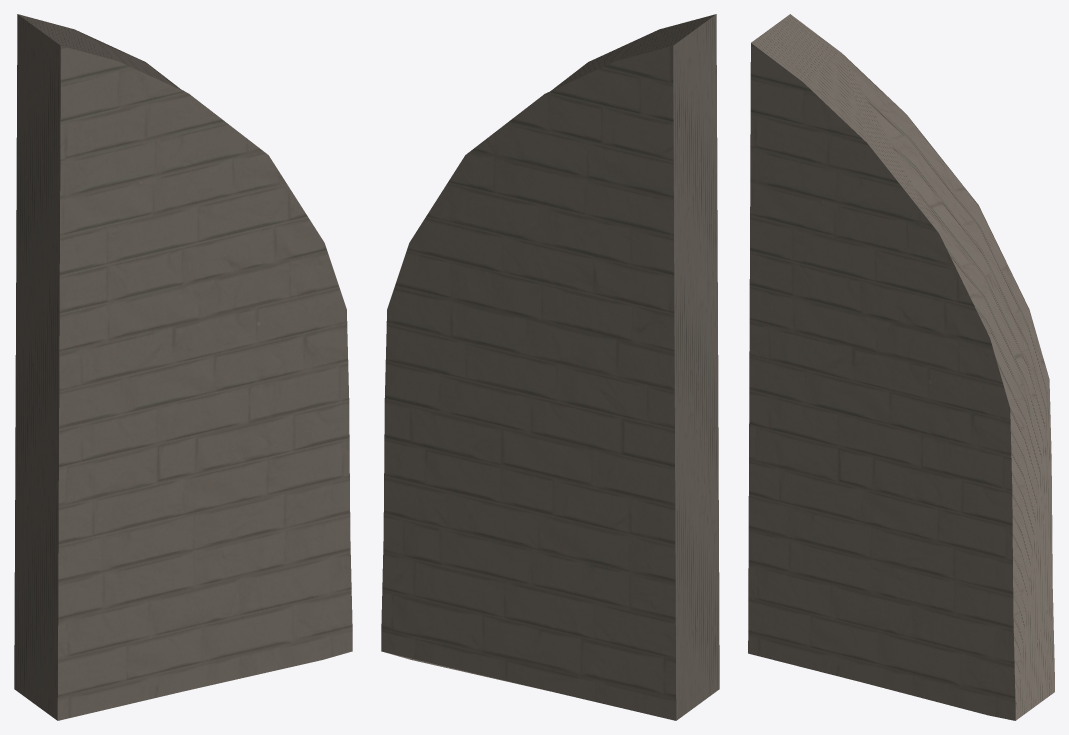
File: half-wall.fbx
3 renders of one model, left to right at view 1: azimuth 30°, elevation 25°; view 2: azimuth 150°, elevation 25°; view 3: azimuth 330°, elevation 25°, orthographic. The views are drawn at different scales.
Visible parts, largest first — view 1: half-wall; view 2: half-wall; view 3: half-wall.
Part boxes in pixels (x1,y1,x2,y2): half-wall: (14,14,352,720); half-wall: (381,14,719,720); half-wall: (748,14,1054,720).
Bounding box in the file's own units: 850 × 1867 × 217.
1 material, 1 textured.
